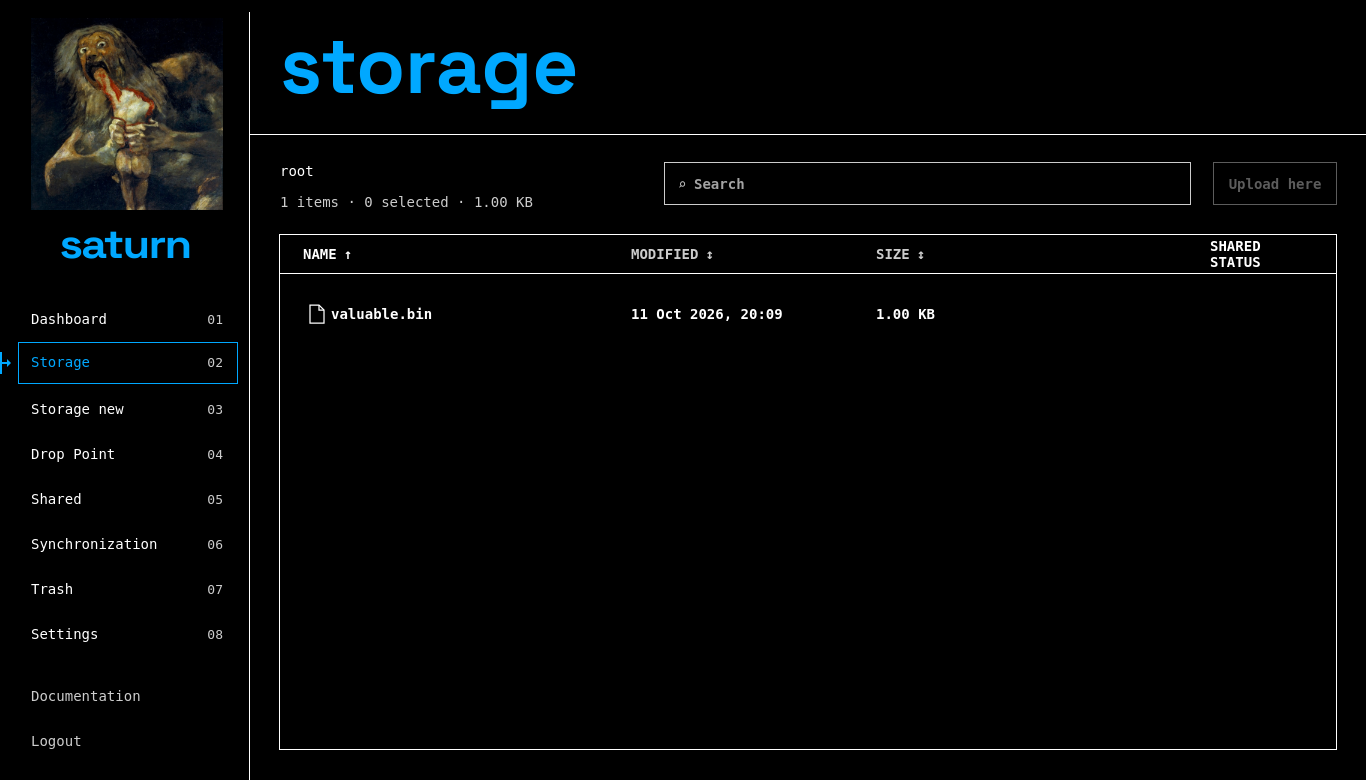
owner Saturn UI › keeps the selected context-menu action focused across storage rerenders
Right-click the button "valuable.bin".
right_click(368, 314)  # box left=303, top=299, right=432, bottom=329
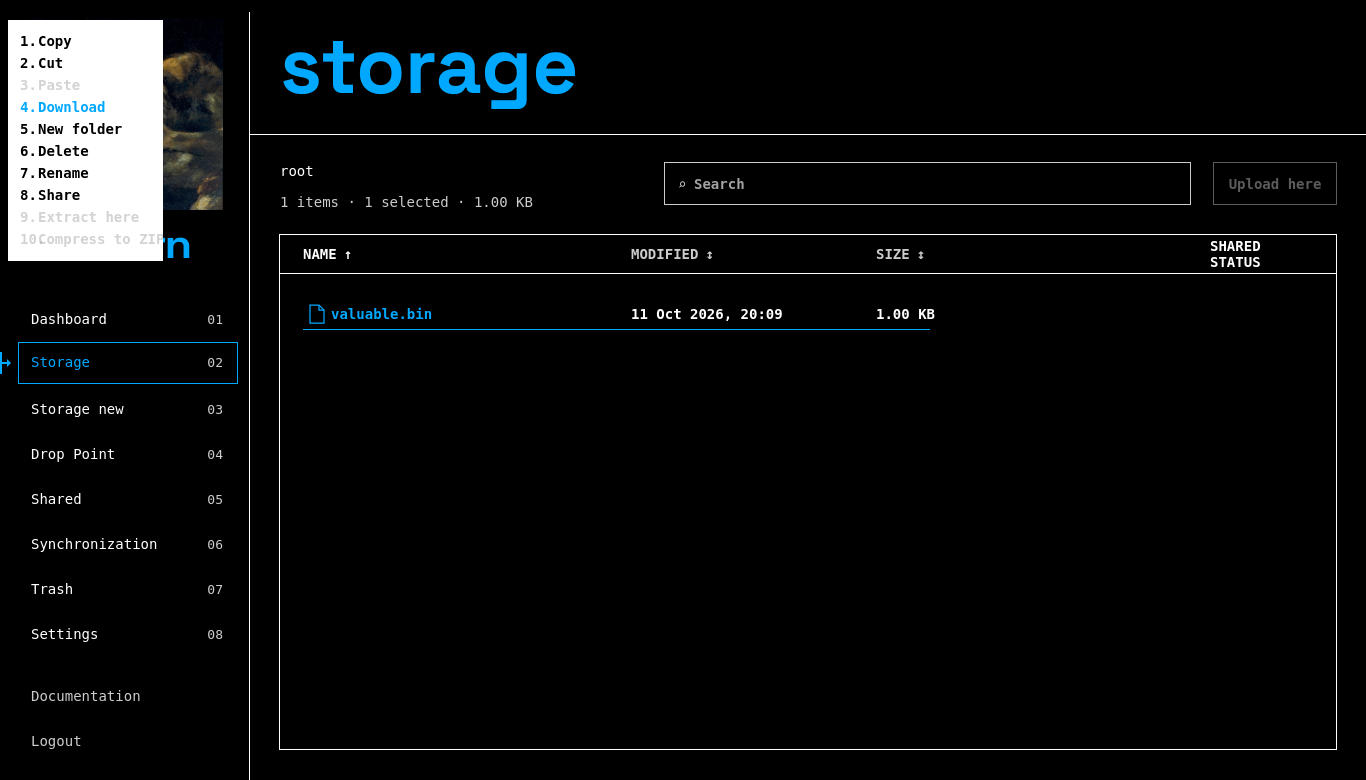
Type "valuable" into the search field named "Search storage".
click(928, 184); type("valuable")  # box left=664, top=162, right=1191, bottom=205
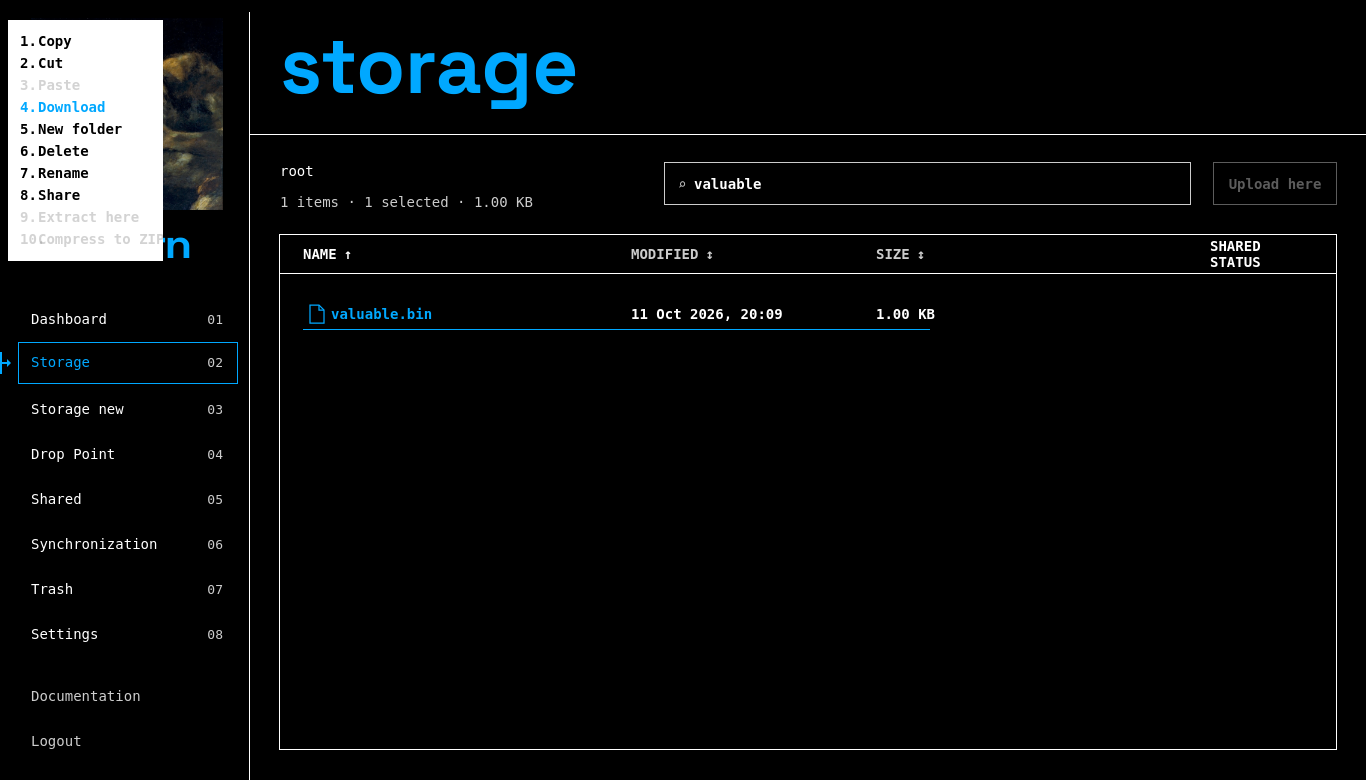
Press Escape in the menu item "4. Download", box left=8, top=96, right=163, bottom=118
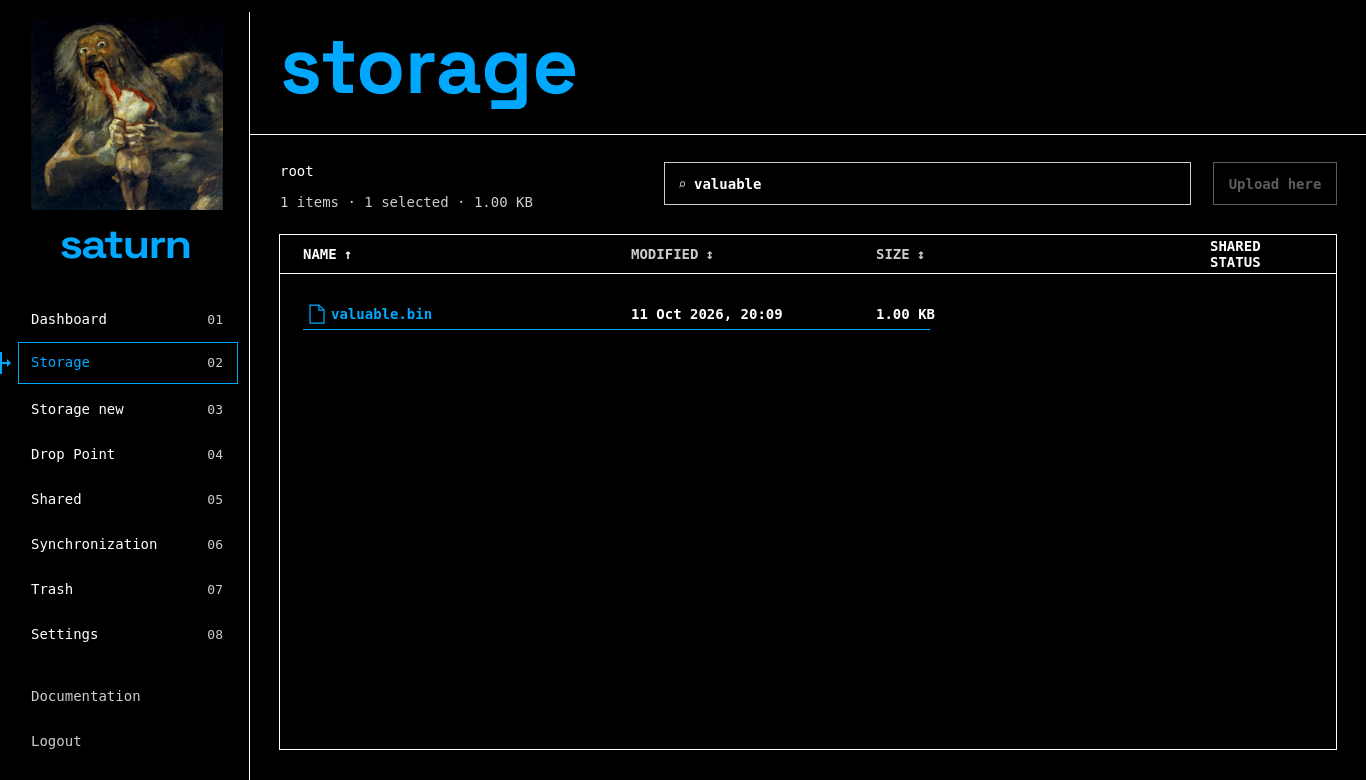
Check: the menu is gone
